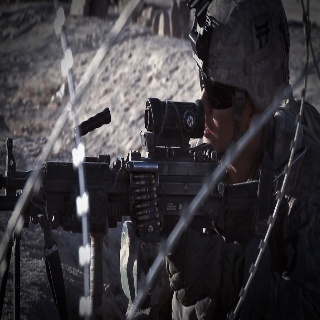rifle: (1, 95, 273, 252)
